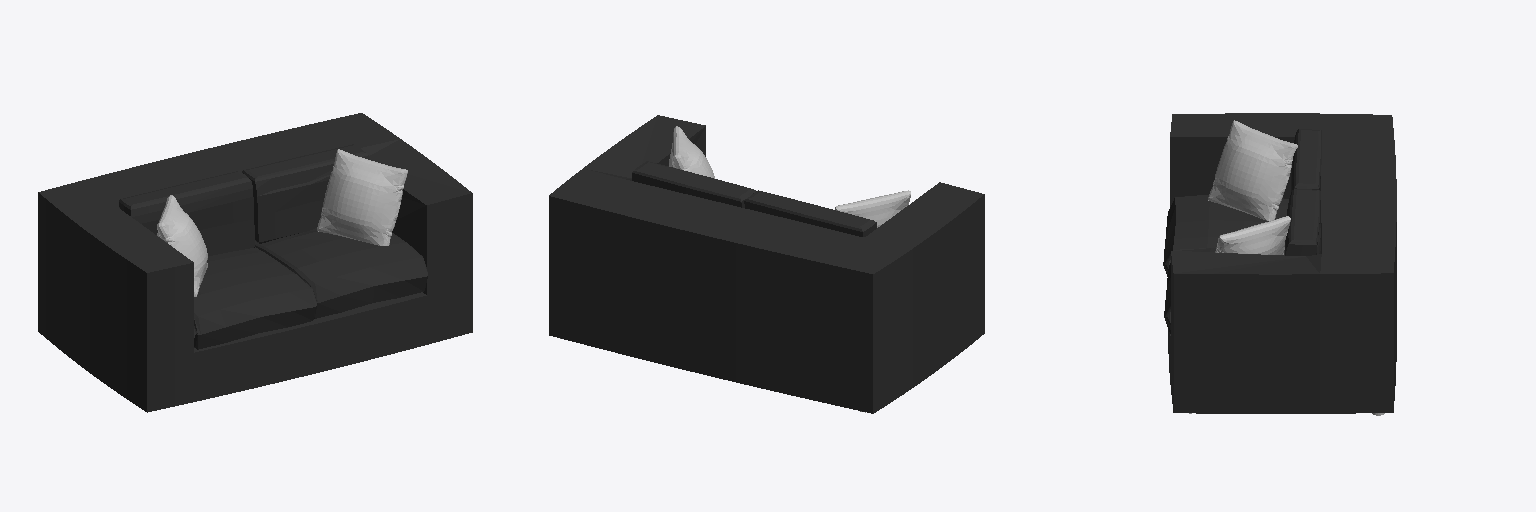
3 renders of one model, left to right at view 1: azimuth 30°, elevation 25°; view 2: azimuth 150°, elevation 25°; view 3: azimuth 270°, elevation 25°, orthographic.
Visible parts, largest first — view 1: Mesh2_Sofa1_Model.001, Mesh4_Sofa1_Model.001, Mesh3_Sofa1_Model.001, Mesh5_Sofa1_Model.001, Mesh8_Box03_2_Model.001, Mesh6_Sofa1_Model.001, Mesh7_Box03_1_Model.001; view 2: Mesh2_Sofa1_Model.001, Mesh6_Sofa1_Model.001, Mesh5_Sofa1_Model.001, Mesh7_Box03_1_Model.001, Mesh8_Box03_2_Model.001; view 3: Mesh2_Sofa1_Model.001, Mesh7_Box03_1_Model.001, Mesh3_Sofa1_Model.001, Mesh6_Sofa1_Model.001, Mesh8_Box03_2_Model.001, Mesh5_Sofa1_Model.001.
Boxes of the visible parts, <box> form: Mesh2_Sofa1_Model.001: <box>38,113,472,412</box>; Mesh4_Sofa1_Model.001: <box>255,228,427,318</box>; Mesh3_Sofa1_Model.001: <box>194,247,316,349</box>; Mesh5_Sofa1_Model.001: <box>119,171,254,255</box>; Mesh8_Box03_2_Model.001: <box>317,149,407,245</box>; Mesh6_Sofa1_Model.001: <box>242,144,368,243</box>; Mesh7_Box03_1_Model.001: <box>157,195,207,296</box>; Mesh2_Sofa1_Model.001: <box>549,115,984,413</box>; Mesh6_Sofa1_Model.001: <box>632,161,756,207</box>; Mesh5_Sofa1_Model.001: <box>744,190,876,236</box>; Mesh7_Box03_1_Model.001: <box>835,190,910,227</box>; Mesh8_Box03_2_Model.001: <box>669,126,714,178</box>; Mesh2_Sofa1_Model.001: <box>1168,113,1396,415</box>; Mesh7_Box03_1_Model.001: <box>1208,120,1297,220</box>; Mesh3_Sofa1_Model.001: <box>1163,195,1320,276</box>; Mesh6_Sofa1_Model.001: <box>1285,189,1320,255</box>; Mesh8_Box03_2_Model.001: <box>1215,216,1290,254</box>; Mesh5_Sofa1_Model.001: <box>1291,129,1321,191</box>.
Size of the model in its own units: 52.54 by 24.88 by 32.15.